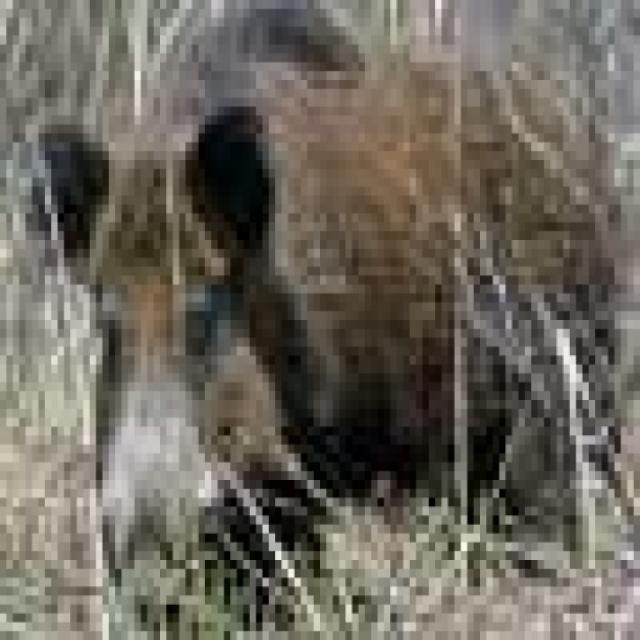pig: (16, 0, 640, 552)
